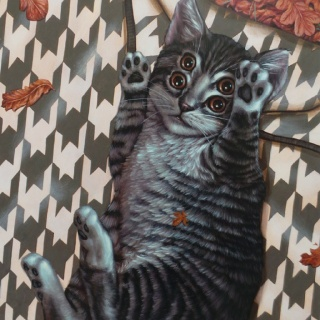Cat: (20, 0, 291, 319)
